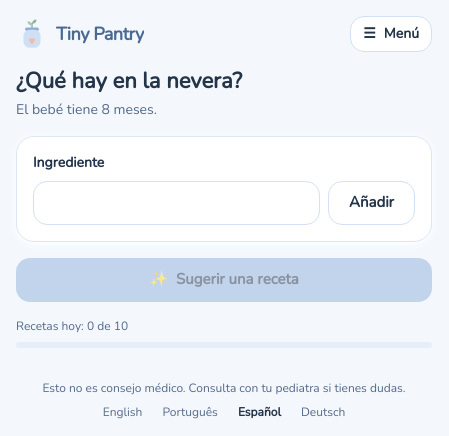
the open menu is fully in es
Step 1. Click the button "☰ Menú" → (391, 34), box x1=350 y1=16 x2=432 y2=52
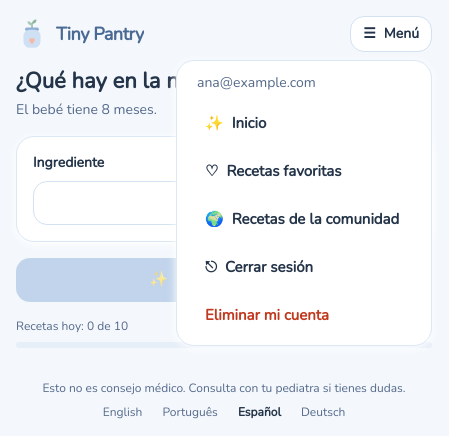
Now the button "✨ Inicio" is shown, box x1=185 y1=101 x2=423 y2=145
Now the button "♡ Recetas favoritas" is shown, box x1=185 y1=149 x2=423 y2=193
Now the button "🌍 Recetas de la comunidad" is shown, box x1=185 y1=197 x2=423 y2=241
